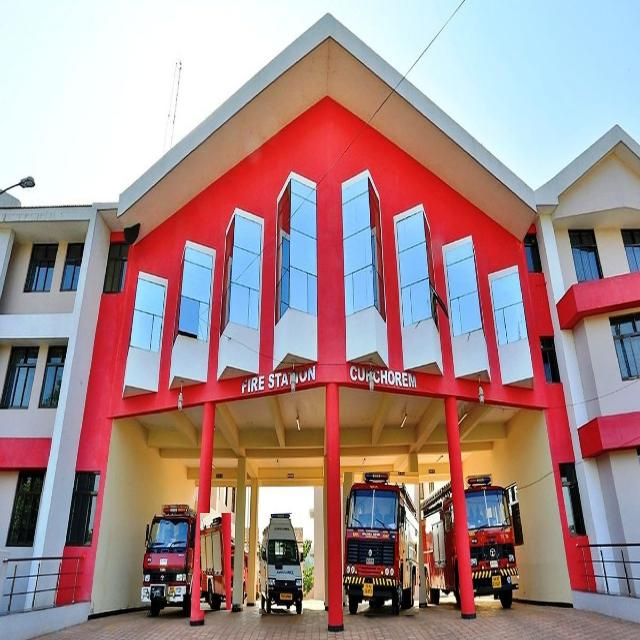emergency: (344, 472, 419, 615), (459, 475, 522, 608), (140, 504, 202, 616), (421, 481, 462, 605), (260, 514, 303, 614), (200, 513, 231, 610)
